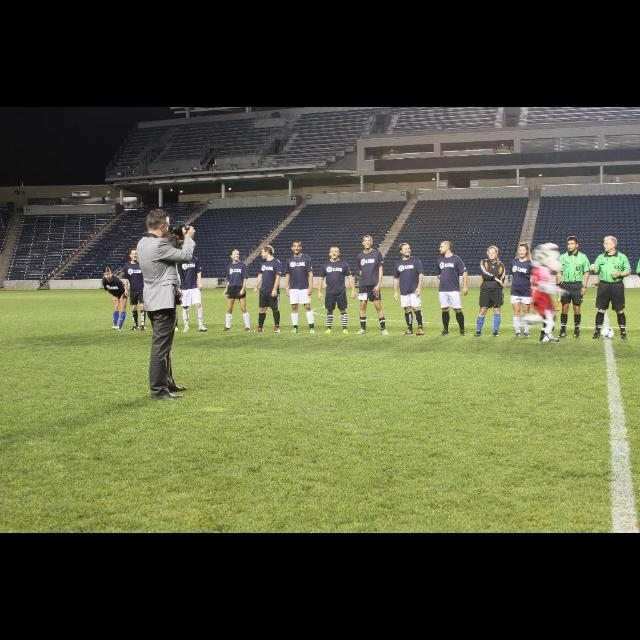Football: (600, 326, 614, 338)
